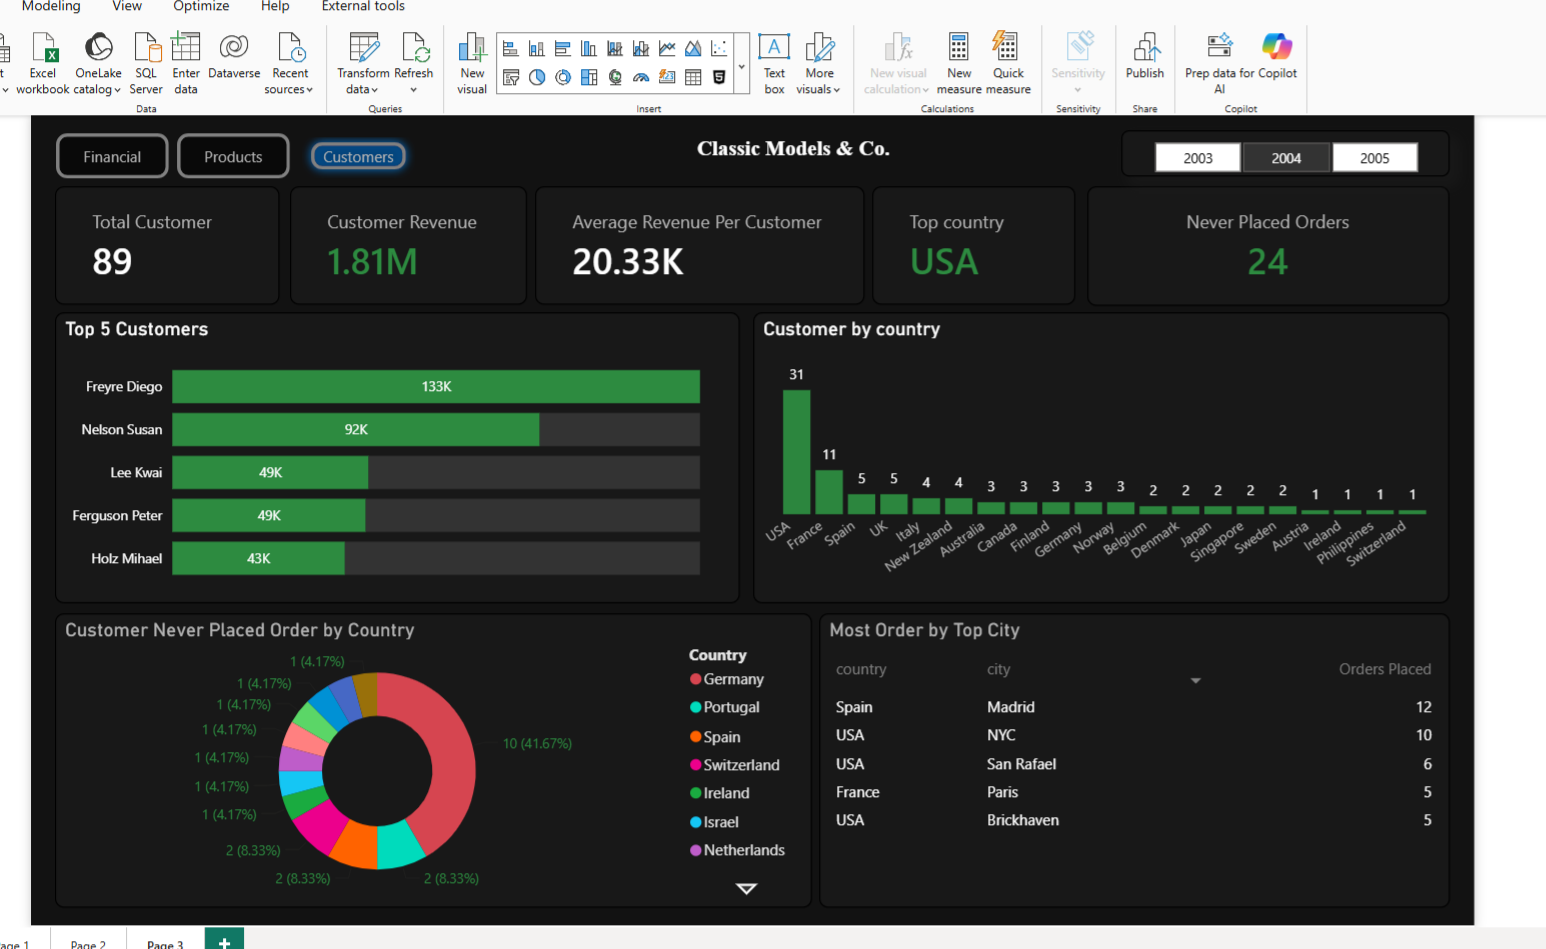

The dashboard page shown, as its layout file describes it:
{"tool":"powerbi","page":{"name":"Page 3","canvas":[1280,720],"ordinal":2},"visuals":[{"type":"cardVisual","fields":{"Data":["Customer Measure.Total Customer"]},"box":[20.9,62.7,199.4,105.4],"z":0},{"type":"cardVisual","fields":{"Data":["Customer Measure.Customer revenue"]},"box":[229.8,62.7,209.9,105.4],"z":1},{"type":"cardVisual","fields":{"Data":["Customer Measure.Average revenue per customer"]},"box":[447.2,62.7,291.5,105.4],"z":2},{"type":"cardVisual","fields":{"Data":["Customer Measure.Top country"]},"box":[745.4,62.7,180.4,105.4],"z":3},{"type":"barChart","title":"Top 5 Customers","fields":{"Category":["customers.CUSTOMERNAME"],"Y":["All Measures.Total profit","Customer Measure.remaining profit"]},"box":[21.3,174.7,606.5,258],"z":4},{"type":"columnChart","title":"Customer by country","fields":{"Category":["customers.country"],"Y":["Customer Measure.Total Customer"]},"box":[640.2,174.7,617.1,258],"z":7},{"type":"cardVisual","fields":{"Data":["Customer Measure.never placed order"]},"box":[936.4,63,321,105.5],"z":8},{"type":"donutChart","fields":{"Category":["customers.country"],"Y":["Customer Measure.never placed order"]},"box":[21.3,441.6,671.2,260.7],"z":9},{"type":"tableEx","title":"Most Order by Top City","fields":{"Values":["customers.country","customers.CITY","All Measures.Orders Placed"]},"box":[698.7,441.6,558.6,260.7],"z":10},{"type":"slicer","fields":{"Values":["DateTable.Year"]},"box":[966.5,13.3,290.8,40.8],"z":11},{"type":"textbox","box":[585.2,13.3,197.3,39.1],"z":12},{"type":"actionButton","box":[22.2,16,100,40],"z":13},{"type":"actionButton","box":[129.5,16,100,40],"z":14},{"type":"actionButton","box":[240.3,16,100,40],"z":15}]}

Visuals, with their boxes on the page's 1280x720 design canvas (x1, y1, x2, y2). These are canvas units, not pixel positions in the 1546x949 screenshot, which may show the page scaled, cropped or inside an application window:
cardVisual - Customer Measure.Total Customer: BBox(21, 63, 220, 168)
cardVisual - Customer Measure.Customer revenue: BBox(230, 63, 440, 168)
cardVisual - Customer Measure.Average revenue per customer: BBox(447, 63, 739, 168)
cardVisual - Customer Measure.Top country: BBox(745, 63, 926, 168)
"Top 5 Customers" barChart: BBox(21, 175, 628, 433)
"Customer by country" columnChart: BBox(640, 175, 1257, 433)
cardVisual - Customer Measure.never placed order: BBox(936, 63, 1257, 168)
donutChart - customers.country x Customer Measure.never placed order: BBox(21, 442, 692, 702)
"Most Order by Top City" tableEx: BBox(699, 442, 1257, 702)
slicer - DateTable.Year: BBox(966, 13, 1257, 54)
textbox: BBox(585, 13, 782, 52)
actionButton: BBox(22, 16, 122, 56)
actionButton: BBox(130, 16, 230, 56)
actionButton: BBox(240, 16, 340, 56)
